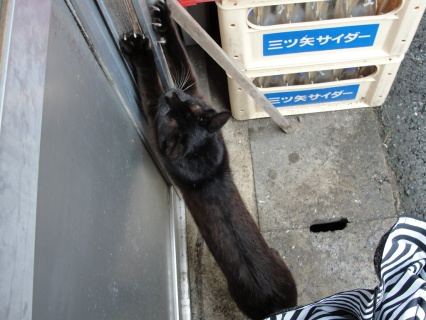Cat: (118, 0, 297, 319)
